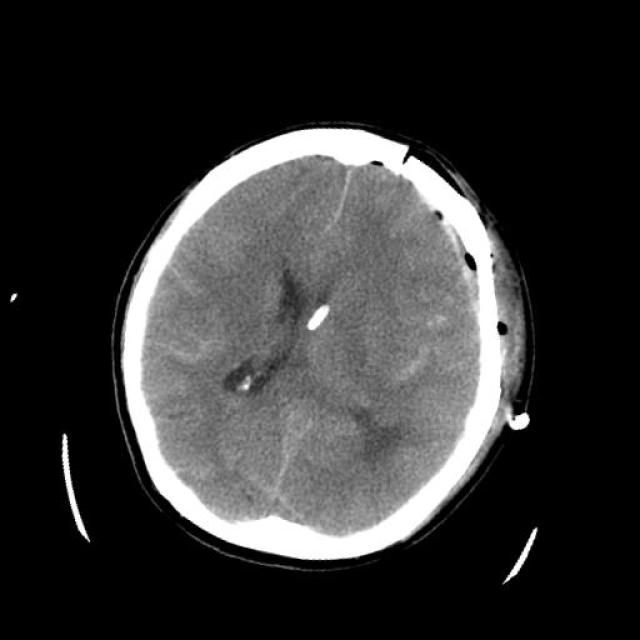Subarachnoid: (373, 322, 453, 397), (151, 256, 220, 322)
Subdural: (397, 184, 532, 328)
